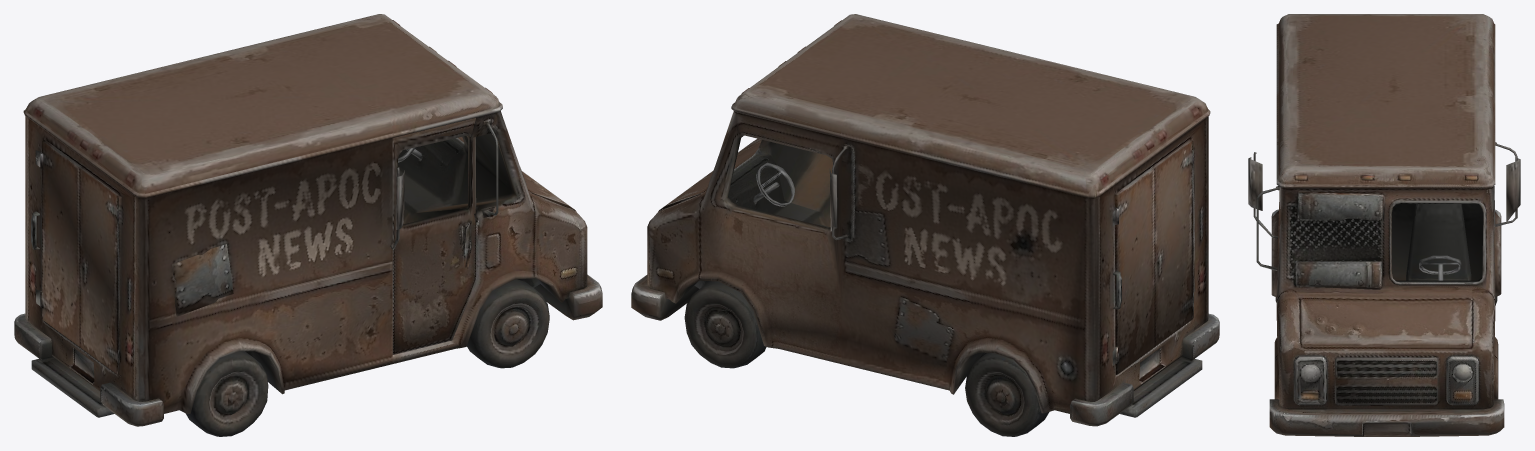
The model's file is Vaa01.fbx.
The picture shows the model from 3 angles, left to right: view 1: azimuth 30°, elevation 25°; view 2: azimuth 150°, elevation 25°; view 3: azimuth 270°, elevation 25°; orthographic projection. The views are drawn at different scales.
Visible parts, largest first — view 1: tripo_node_1c69b2bf; view 2: tripo_node_1c69b2bf; view 3: tripo_node_1c69b2bf.
Boxes of the visible parts, <box> form: tripo_node_1c69b2bf: <box>14,14,602,436</box>; tripo_node_1c69b2bf: <box>631,14,1219,436</box>; tripo_node_1c69b2bf: <box>1248,14,1520,436</box>.
Bounding box in the file's own units: 0.998 × 0.5488 × 0.5293.
